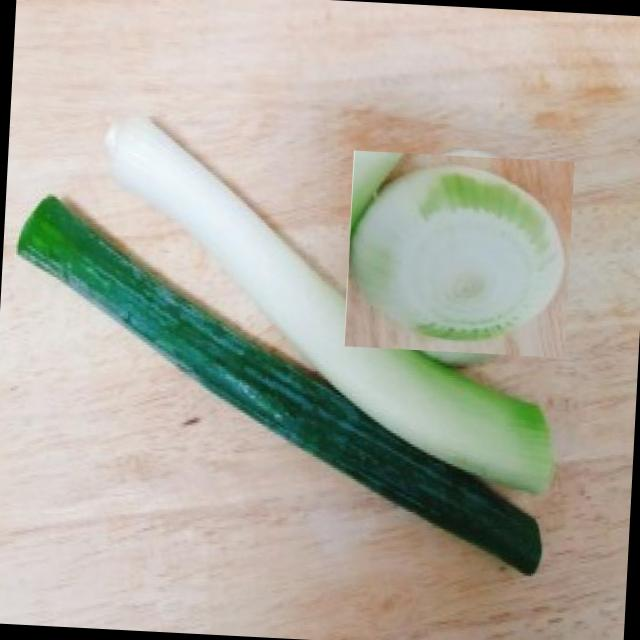Onion: (350, 145, 569, 364)
